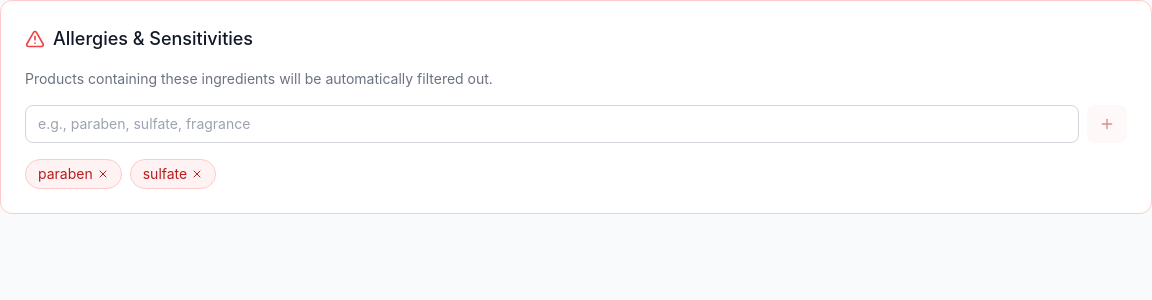
Test case: AllergyManager › adds a new allergy via input and button
The image size is (1152, 300).
Type "fragrance" into the field with placeholder "e.g., paraben, sulfate, fragrance".
click(552, 124); type("fragrance")  # box 25,105 -> 1079,143
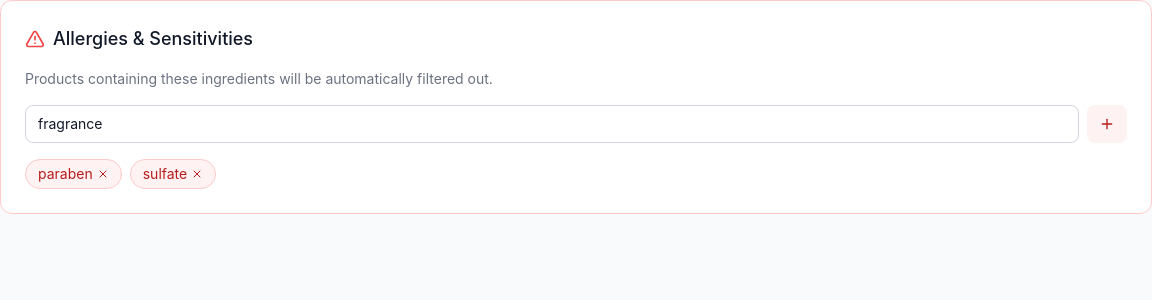
The add button is the sibling of the input in the flex container
Click the 1st button.
click(1107, 124)  # box 1087,105 -> 1127,143
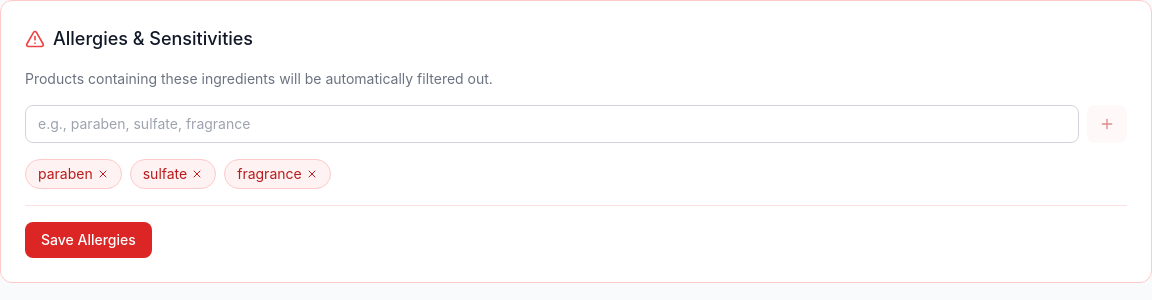
Result: the text "fragrance" is shown at 224,159 -> 331,189
